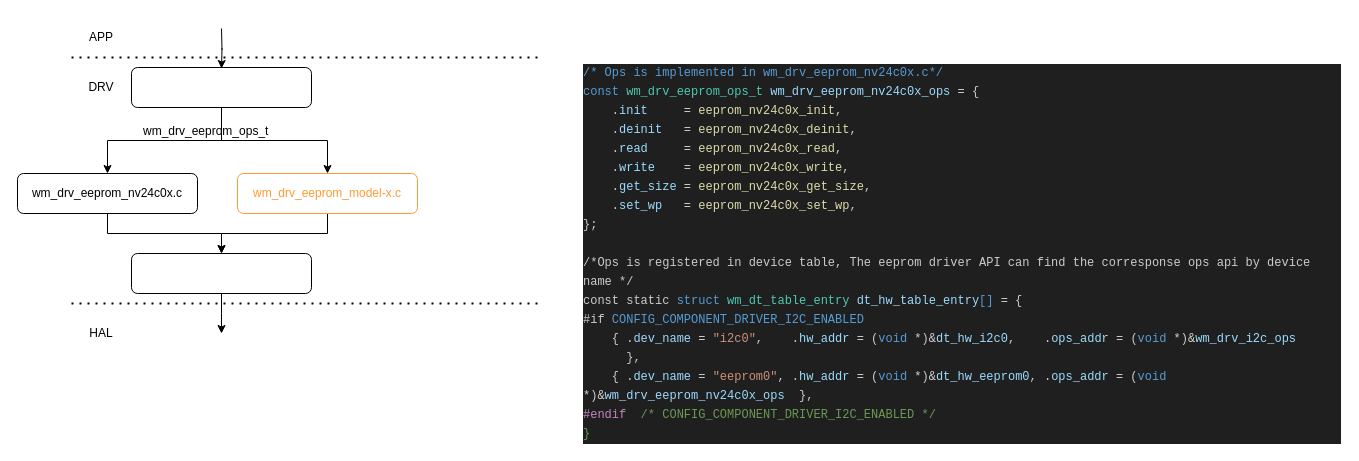
The diagram is 1359 pixels wide and 461 high, and some of its shapes have lost their labels. The shapes that lost their labels are listed below. From the top down, each one's box as (x1, y1, x2, y2) in pixels, then its label:
(130, 66, 312, 108): wm_drv_eeprom
(130, 252, 312, 294): wm_drv_i2c
